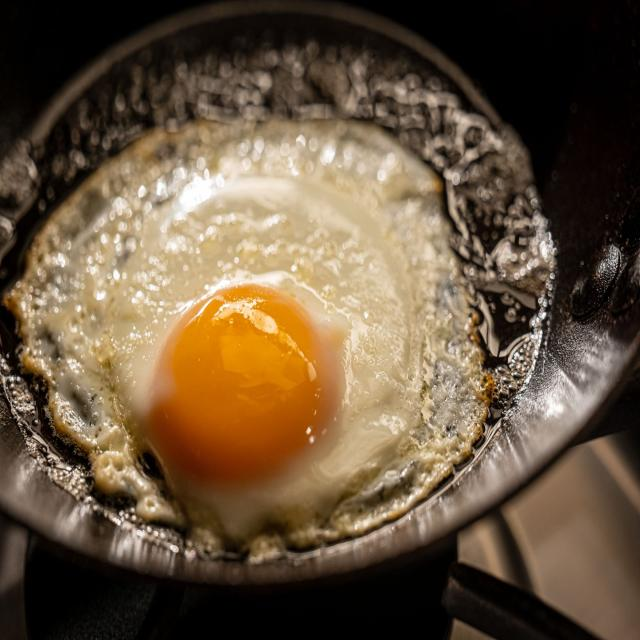eggs: (82, 103, 480, 509)
